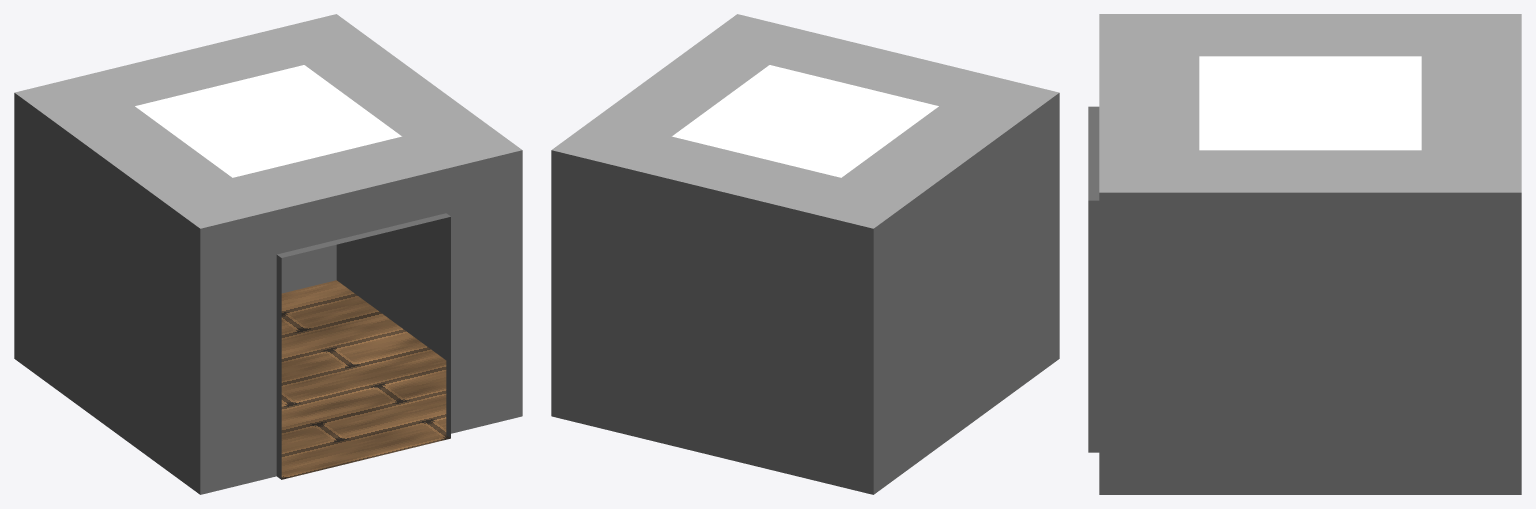
Rendered from Elevator.glb.
3 views of the same model, side by side, from view 1: azimuth 30°, elevation 25°; view 2: azimuth 150°, elevation 25°; view 3: azimuth 270°, elevation 25° (orthographic). The views are drawn at different scales.
Parts seen in each view (by area): view 1: Elevator; view 2: Elevator; view 3: Elevator.
Boxes of the visible parts, bbox=[...] form: Elevator: bbox=[14, 14, 522, 494]; Elevator: bbox=[551, 14, 1059, 494]; Elevator: bbox=[1088, 14, 1521, 494].
Bounding box in the file's own units: 3.8 × 3 × 3.9.
4 materials, 1 textured.
